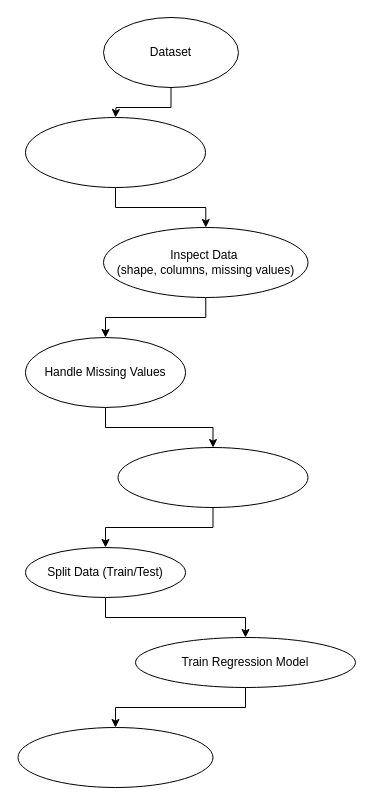
The diagram is 373 pixels wide and 805 high, and some of its shapes have lost their labels. The centre of each missing label's shape, as x and y in pixels:
"Encode Categorical Features" belongs at (212,477).
"Evaluate Model Performance" belongs at (115,757).
"Load Data using Pandas" belongs at (115,152).
